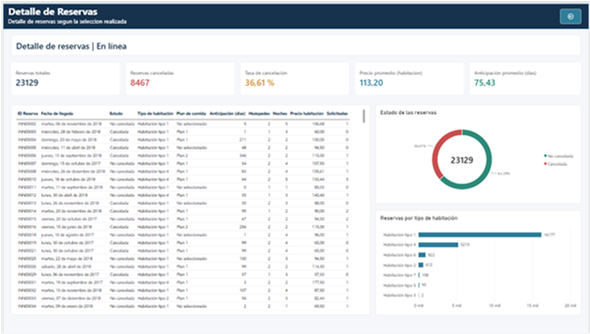

This screenshot's page, from the dashboard's own definition file:
{"tool":"powerbi","page":{"name":"Detalle de reservas","canvas":[1920,1080],"ordinal":2},"visuals":[{"type":"shape","box":[0,0,1920,82],"z":0},{"type":"textbox","box":[15,0,1905,82],"z":1000},{"type":"actionButton","box":[1825,15,70,50],"z":2000},{"type":"cardVisual","fields":{"Data":["Medidas.Titulo_Detalle"]},"box":[24,100,1872,70],"z":3000},{"type":"cardVisual","fields":{"Data":["Medidas.Total_Reservas"]},"box":[24,190,360,110],"z":4000},{"type":"cardVisual","fields":{"Data":["Medidas.Reservas_Canceladas"]},"box":[400,190,360,110],"z":5000},{"type":"cardVisual","fields":{"Data":["Medidas.Tasa_Cancelacion"]},"box":[776,190,360,110],"z":6000},{"type":"cardVisual","fields":{"Data":["Medidas.Precio_Promedio_Habitacion"]},"box":[1152,190,360,110],"z":7000},{"type":"cardVisual","fields":{"Data":["Medidas.Lead_Time_Promedio"]},"box":[1528,190,368,110],"z":8000},{"type":"tableEx","fields":{"Values":["Fact_Reservas.Booking_ID","Fact_Reservas.Fecha_Llegada","Fact_Reservas.Estado_Reserva","Fact_Reservas.Tipo_Habitacion_Es","Fact_Reservas.Plan_Comida_Es","Fact_Reservas.lead_time","Fact_Reservas.Total_Huespedes","Fact_Reservas.Total_Noches","Fact_Reservas.avg_price_per_room","Fact_Reservas.no_of_special_requests"]},"box":[24,330,1180,690],"z":9000},{"type":"donutChart","title":"Estado de las reservas","fields":{"Category":["Fact_Reservas.Estado_Reserva"],"Y":["Medidas.Total_Reservas"]},"box":[1220,330,676,325],"z":10000},{"type":"clusteredBarChart","title":"Reservas por tipo de habitación","fields":{"Category":["Fact_Reservas.Tipo_Habitacion_Es"],"Y":["Medidas.Total_Reservas"]},"box":[1220,675,676,345],"z":11000}]}

Visuals, with their boxes in screenshot pixels (x1, y1, x2, y2), scaled from the page's 1920x1080 canvas onto the 590x334 screenshot:
shape: l=0, t=0, r=589, b=25
textbox: l=5, t=0, r=589, b=25
actionButton: l=561, t=5, r=582, b=20
cardVisual - Medidas.Titulo_Detalle: l=7, t=31, r=583, b=53
cardVisual - Medidas.Total_Reservas: l=7, t=59, r=118, b=93
cardVisual - Medidas.Reservas_Canceladas: l=123, t=59, r=234, b=93
cardVisual - Medidas.Tasa_Cancelacion: l=238, t=59, r=349, b=93
cardVisual - Medidas.Precio_Promedio_Habitacion: l=354, t=59, r=465, b=93
cardVisual - Medidas.Lead_Time_Promedio: l=470, t=59, r=583, b=93
tableEx - Fact_Reservas.Booking_ID x Fact_Reservas.Fecha_Llegada: l=7, t=102, r=370, b=315
"Estado de las reservas" donutChart: l=375, t=102, r=583, b=203
"Reservas por tipo de habitación" clusteredBarChart: l=375, t=209, r=583, b=315
